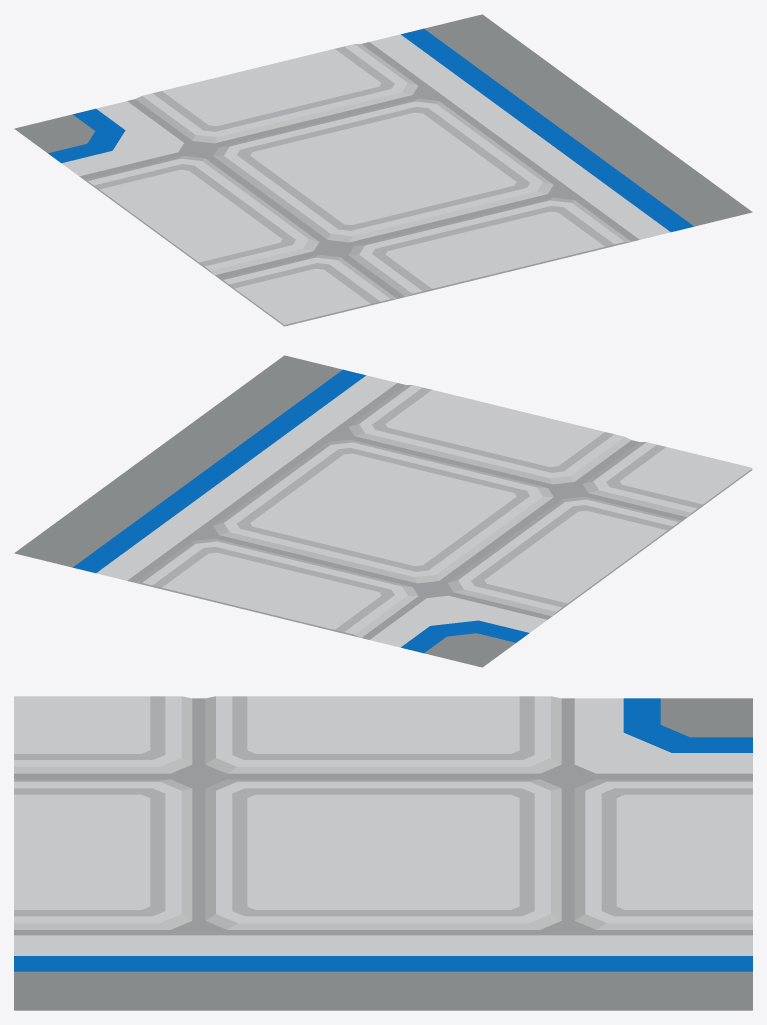
The model's file is Floor_type_A_032.glb.
3 renders of one model, top to bottom at view 1: azimuth 30°, elevation 25°; view 2: azimuth 150°, elevation 25°; view 3: azimuth 270°, elevation 25°, orthographic. The views are drawn at different scales.
Visible parts, largest first — view 1: Floor_type_A_032; view 2: Floor_type_A_032; view 3: Floor_type_A_032.
Part boxes in pixels (x1,y1,x2,y2): Floor_type_A_032: [14, 14, 752, 326]; Floor_type_A_032: [14, 355, 752, 667]; Floor_type_A_032: [14, 696, 752, 1010].
Size of the model in its own units: 4 by 0.0134 by 4.
Materials: 2 (2 with a texture image).
